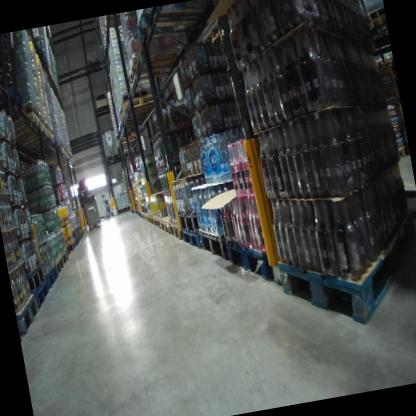pallet: (269, 203, 416, 335), (129, 0, 221, 47), (222, 227, 276, 301), (124, 48, 192, 85), (0, 110, 46, 147), (119, 88, 168, 119), (13, 292, 42, 340), (197, 225, 228, 266), (179, 220, 204, 252), (24, 258, 48, 289), (176, 203, 199, 235), (17, 125, 50, 147), (25, 132, 55, 152), (159, 212, 179, 237), (44, 254, 66, 276), (22, 98, 42, 122), (112, 133, 142, 149), (41, 263, 60, 287), (32, 281, 51, 304), (168, 219, 183, 242), (85, 56, 103, 75), (60, 240, 77, 255), (206, 20, 221, 36), (210, 29, 226, 43), (59, 245, 69, 263), (152, 214, 162, 231), (46, 122, 53, 136), (39, 117, 47, 129), (148, 212, 154, 227), (145, 212, 151, 225), (145, 203, 152, 214), (141, 212, 147, 222), (141, 203, 145, 214)
pallet_truck: (74, 174, 106, 236)
